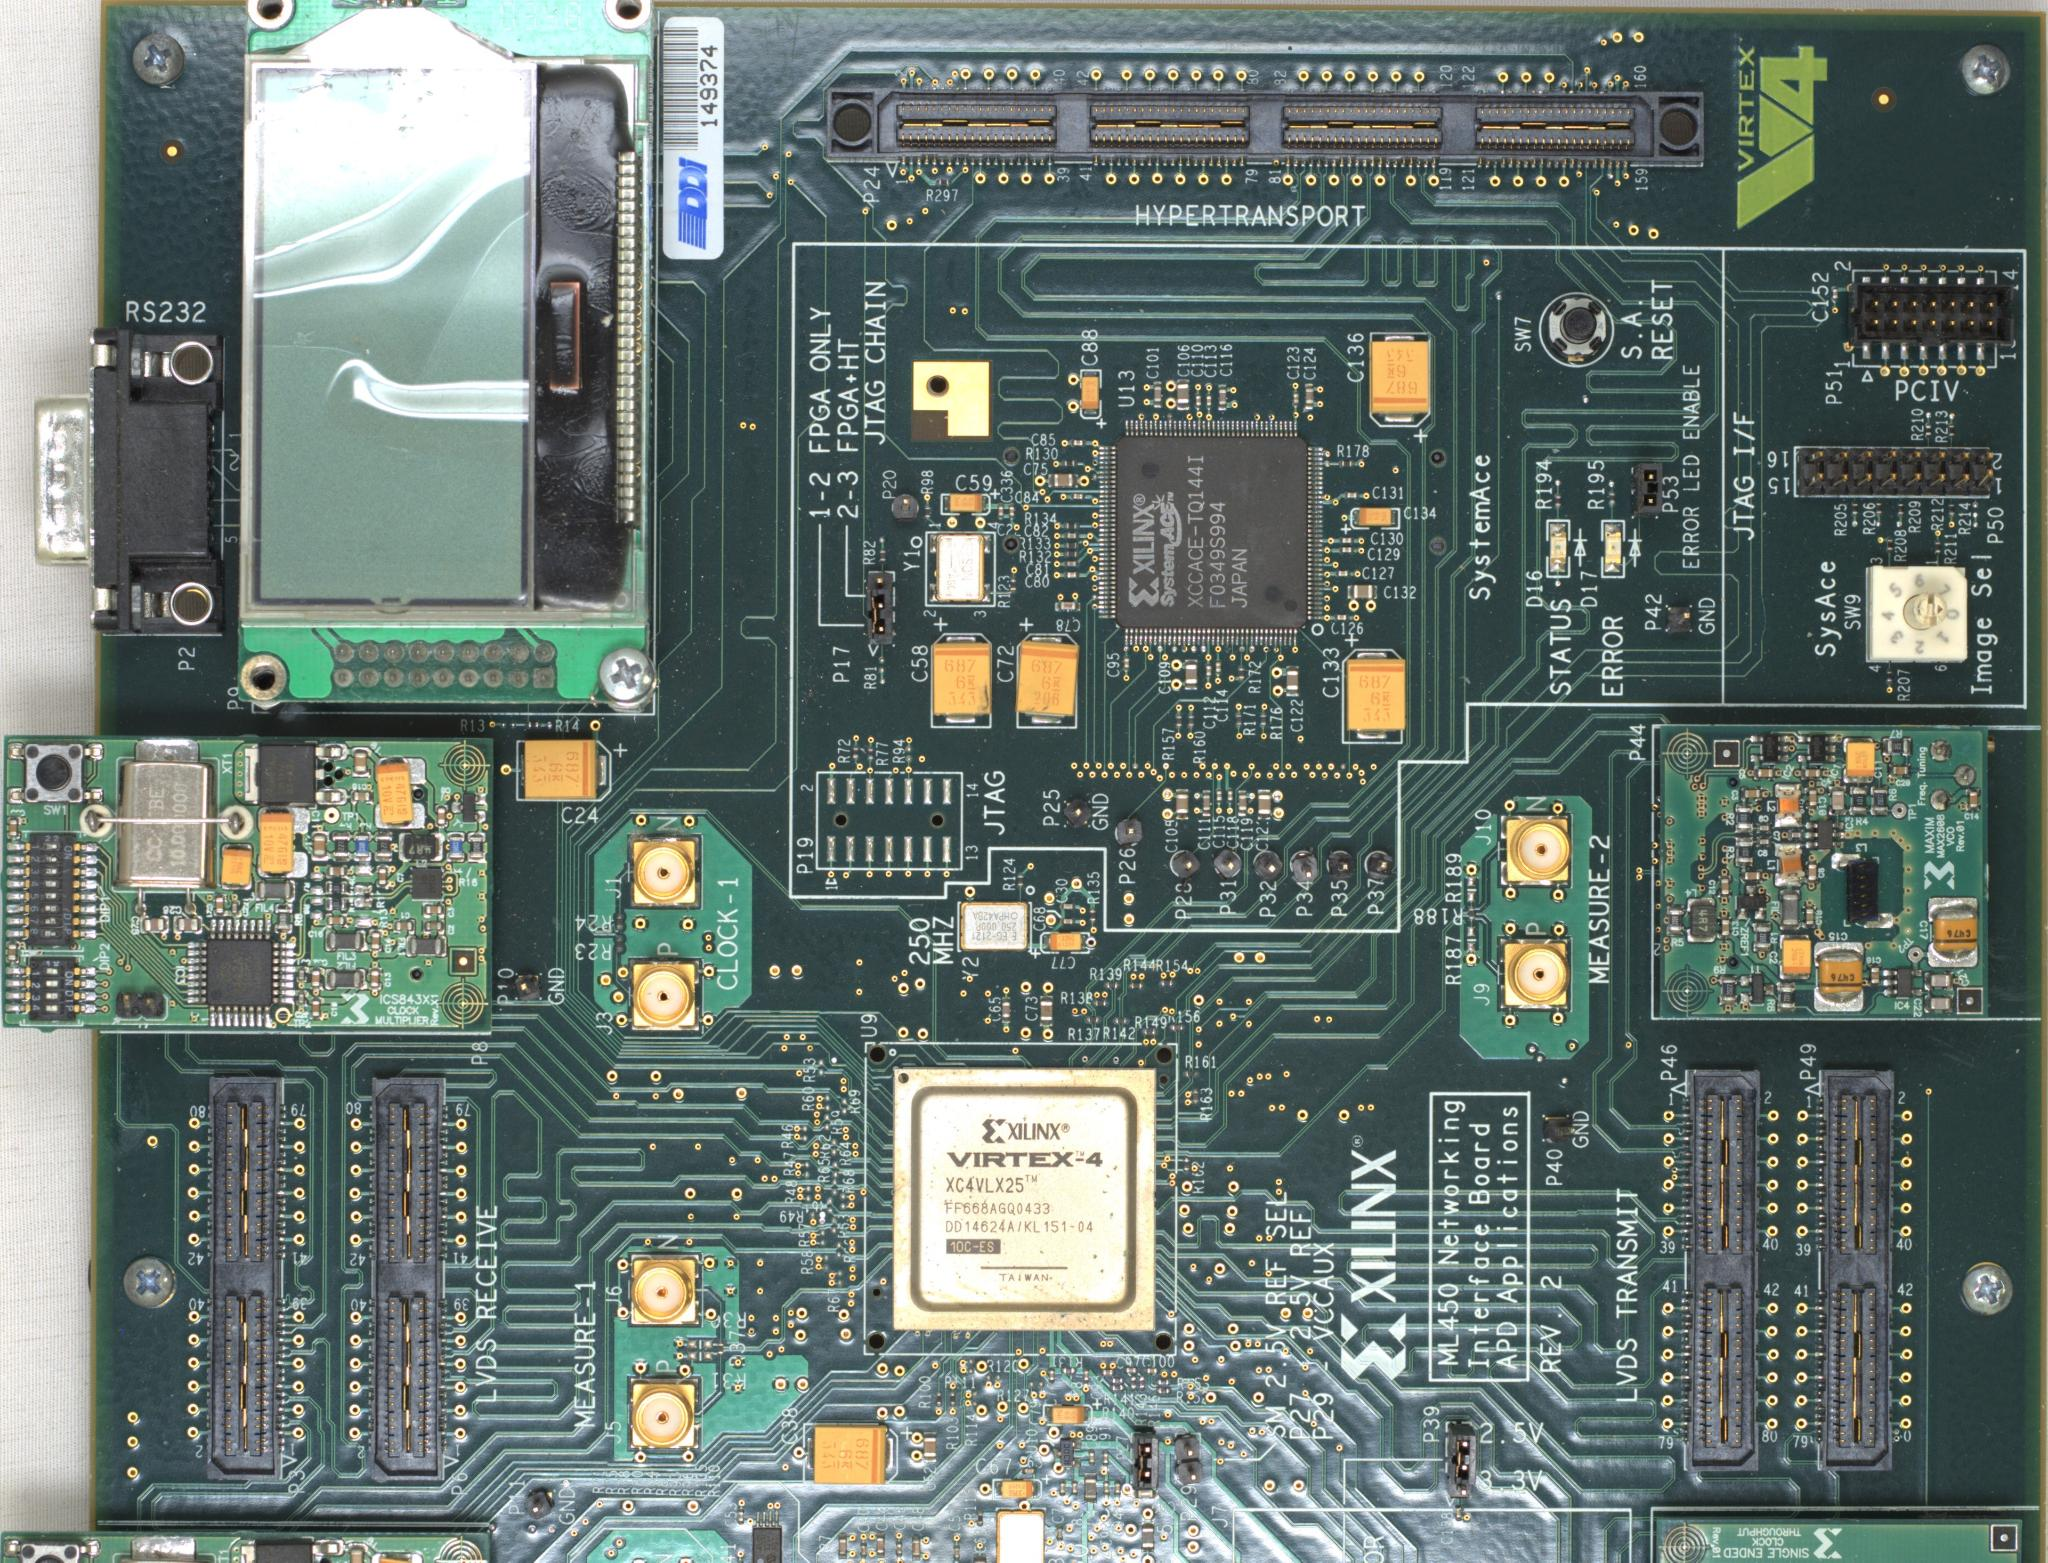tact switch: (1541, 294, 1608, 364)
tranzystor: (233, 749, 350, 806), (441, 783, 484, 831), (1736, 974, 1774, 1006)
